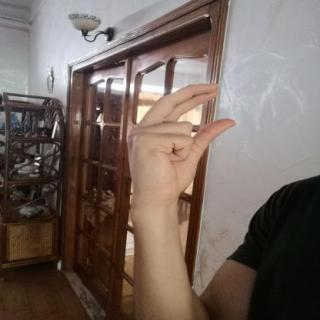DHELL: (118, 77, 242, 205)
